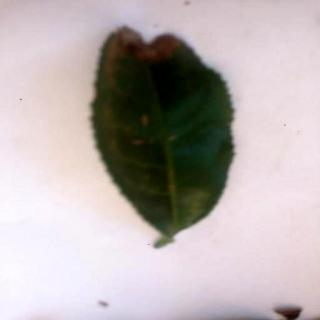Brown Blight: (91, 28, 239, 248)
